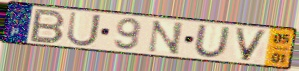9: (113, 17, 144, 52)
B: (28, 8, 68, 45)
N: (145, 19, 185, 56)
U: (66, 10, 104, 48), (192, 24, 232, 59)
V: (232, 26, 270, 63)
